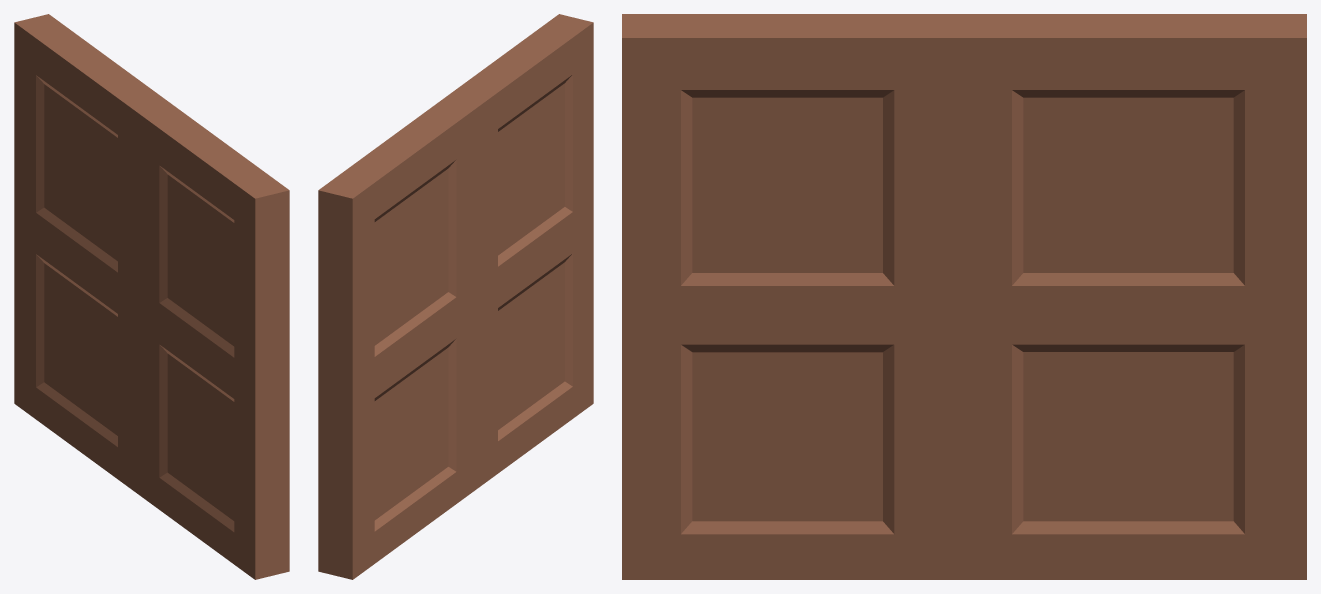
File: PuertaRecepcion.fbx
3 views of the same model, side by side, from view 1: azimuth 30°, elevation 25°; view 2: azimuth 150°, elevation 25°; view 3: azimuth 270°, elevation 25° (orthographic). The views are drawn at different scales.
Visible parts, largest first — view 1: PuertaDer, PuertaIzq; view 2: PuertaIzq, PuertaDer; view 3: PuertaIzq, PuertaDer.
Part boxes in pixels (x1=…): PuertaDer: x1=138, y1=105, x2=289, y2=579; PuertaIzq: x1=14, y1=14, x2=172, y2=494; PuertaIzq: x1=318, y1=99, x2=476, y2=579; PuertaDer: x1=443, y1=14, x2=593, y2=488; PuertaIzq: x1=953, y1=14, x2=1306, y2=579; PuertaDer: x1=622, y1=14, x2=953, y2=579.
Size of the model in its own units: 43.61 by 461 by 527.
